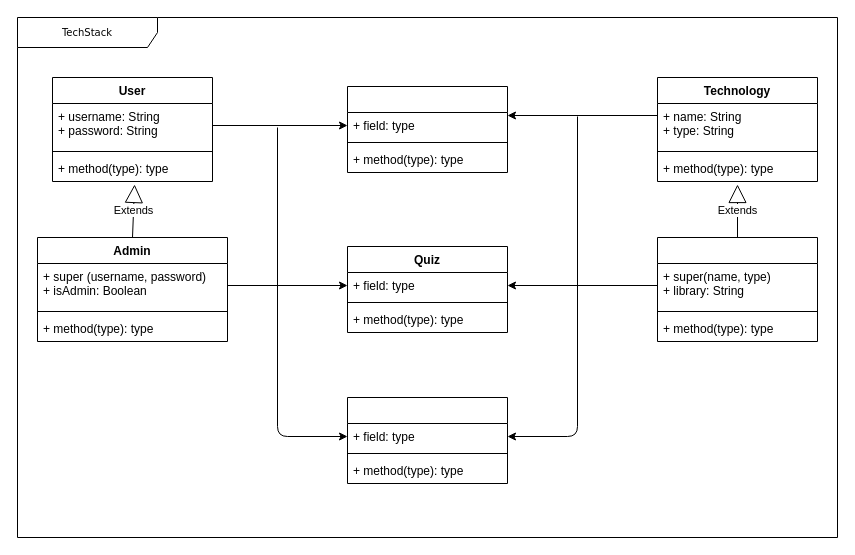
The diagram is 855 pixels wide and 555 high, and some of its shapes have lost their labels. The box of each missing label's shape, as (x1, y1, x2, y2) in pixels:
Certification: (346, 396, 508, 484)
Framework: (656, 236, 818, 342)
LearningGuide: (346, 86, 508, 172)
